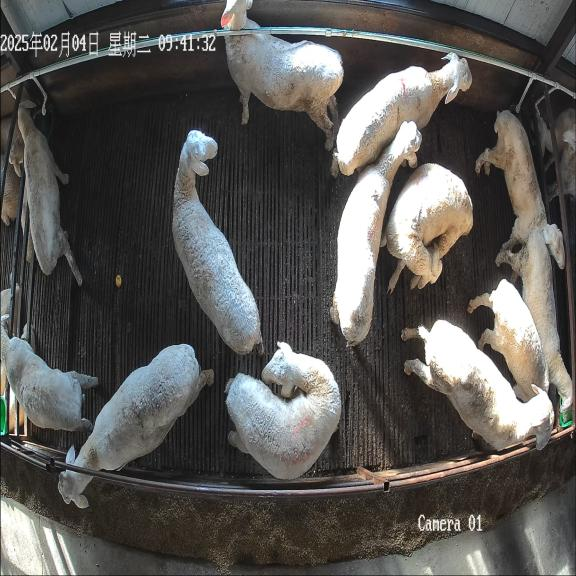drinking: (18, 101, 82, 286)
eating: (58, 344, 214, 508)
stand: (330, 121, 422, 346), (172, 129, 263, 355), (401, 320, 554, 450), (221, 0, 344, 151), (331, 52, 472, 177), (225, 342, 341, 479), (495, 226, 573, 411), (475, 110, 565, 268), (381, 163, 473, 292), (0, 316, 98, 431), (468, 279, 549, 402)
